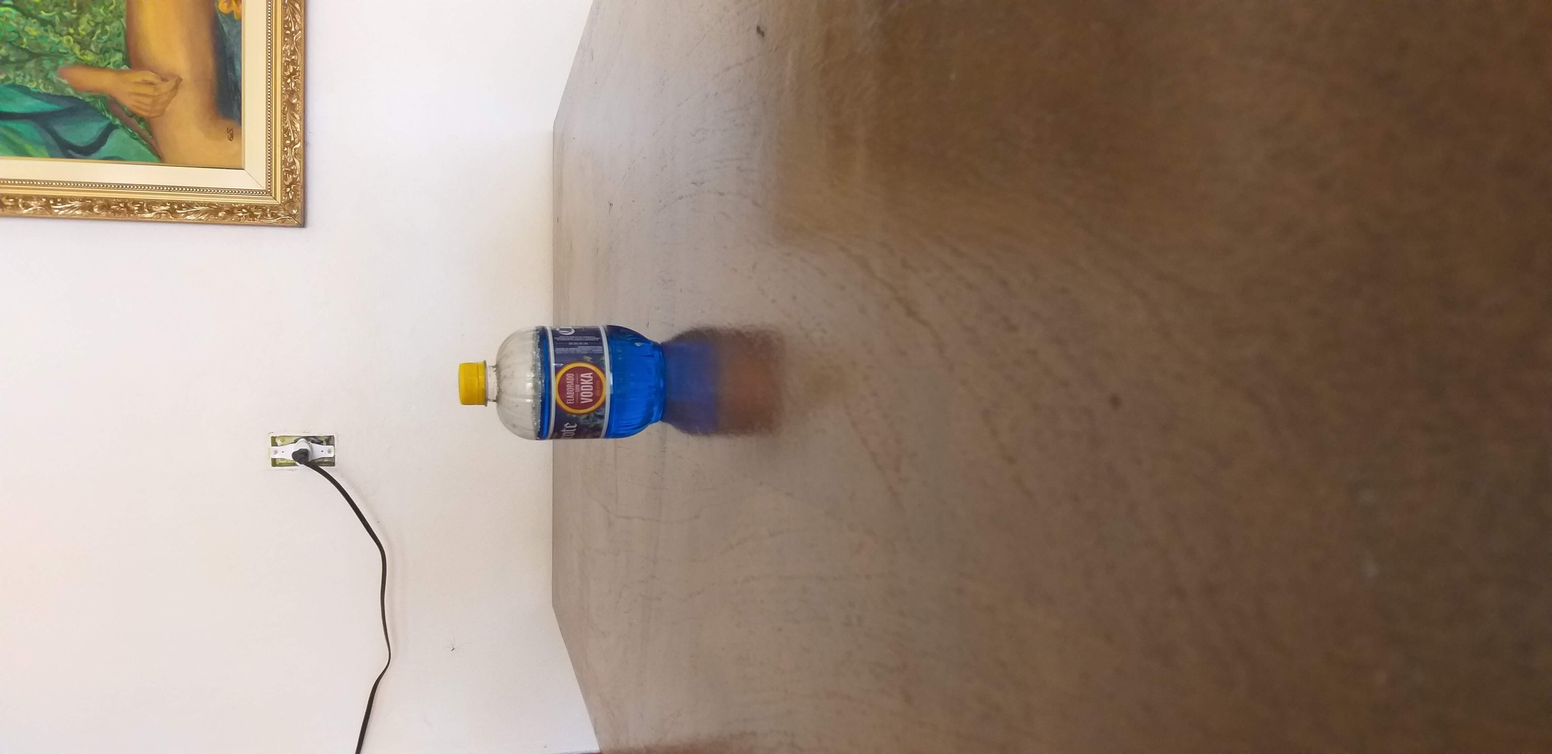bottle-plastic: (454, 320, 670, 444)
